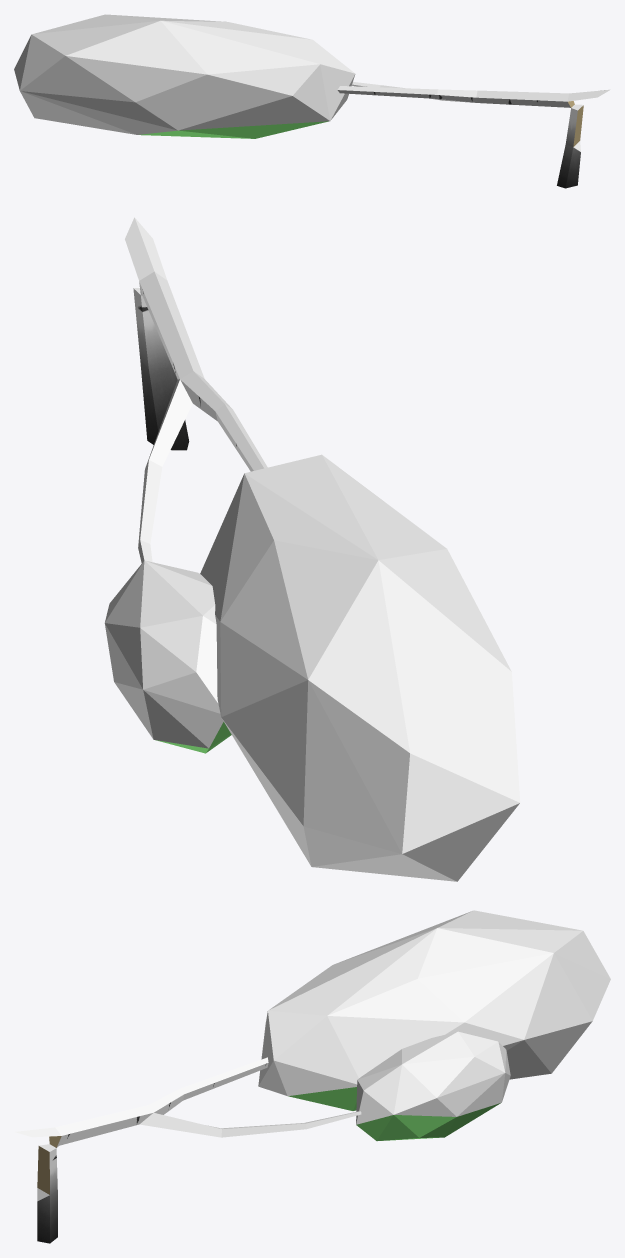
The model's file is Birch_Tree_crk_l_Snow_BT_01.fbx.
3 views of the same model, one above another, from view 1: azimuth 30°, elevation 25°; view 2: azimuth 150°, elevation 25°; view 3: azimuth 270°, elevation 25° (orthographic). The views are drawn at different scales.
Parts seen in each view (by area): view 1: Birch_Tree_crk_l_Snow_BT_01; view 2: Birch_Tree_crk_l_Snow_BT_01; view 3: Birch_Tree_crk_l_Snow_BT_01.
Part boxes in pixels (x1,y1,x2,y2): Birch_Tree_crk_l_Snow_BT_01: [14, 14, 610, 188]; Birch_Tree_crk_l_Snow_BT_01: [104, 217, 520, 881]; Birch_Tree_crk_l_Snow_BT_01: [15, 910, 610, 1243].
Bounding box in the file's own units: 1110 × 320 × 1136.
